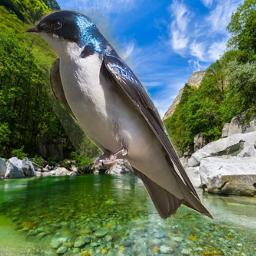Cuckoo: (201, 139, 245, 159)
Swallow: (24, 9, 217, 223)
